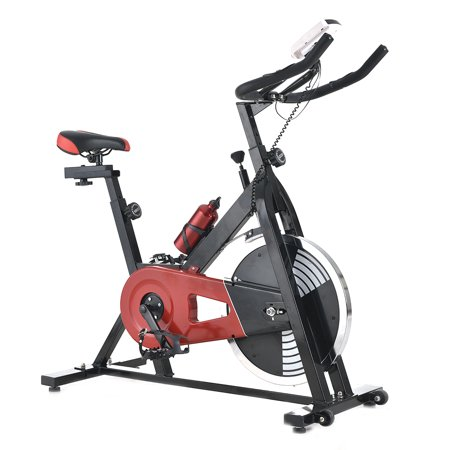gym_bike: (46, 31, 395, 433)
